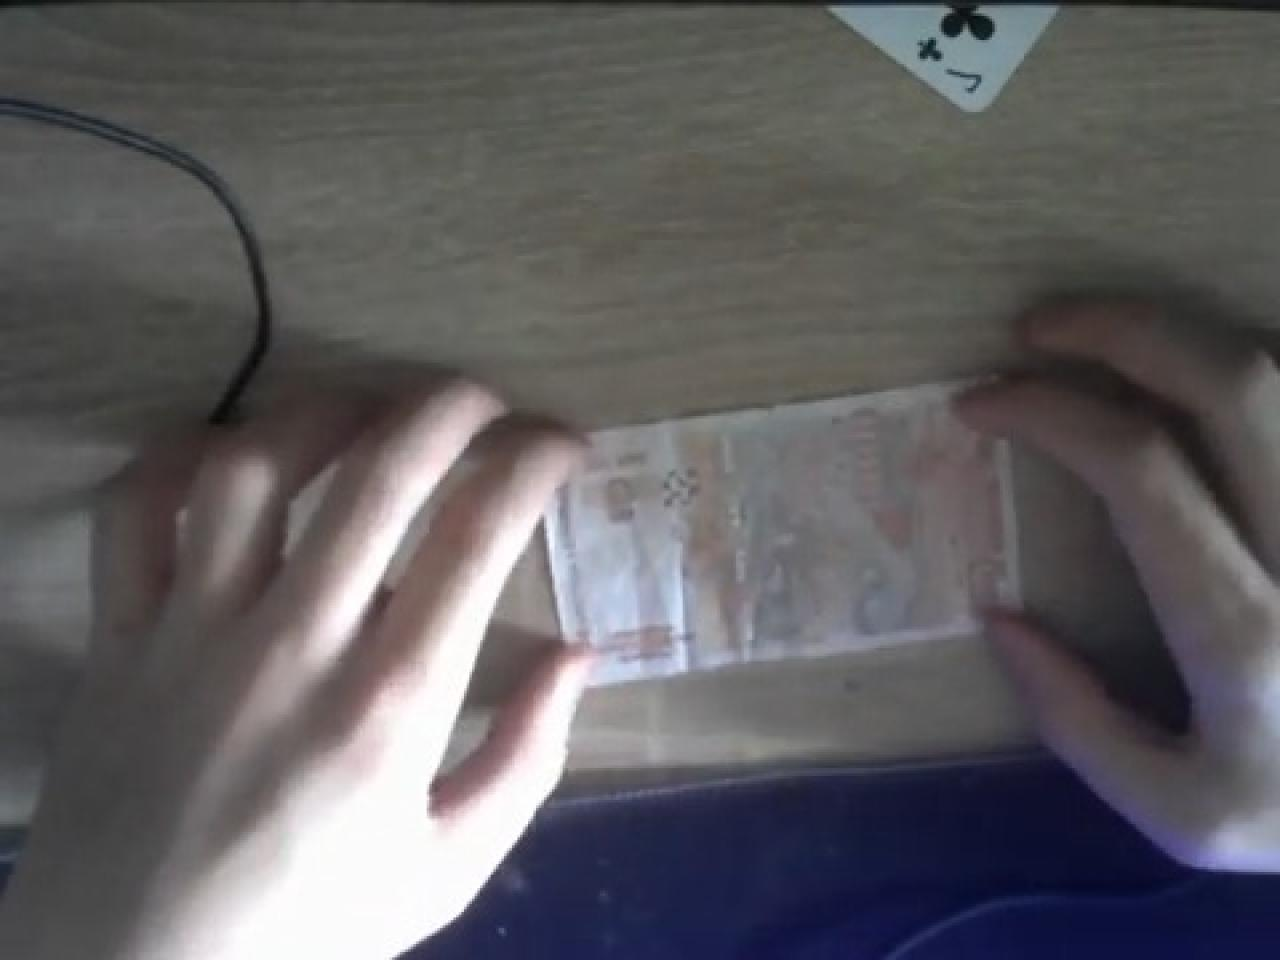5leva: (546, 379, 1019, 686)
